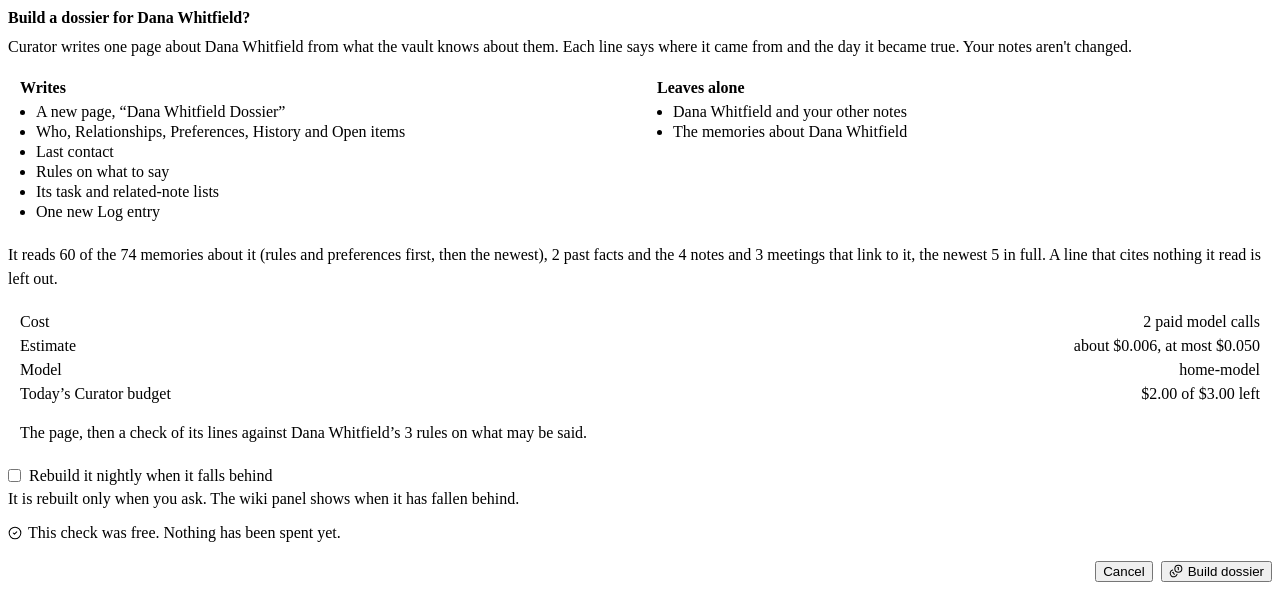
it: builds on confirm, follows it by the page's status, and offers the page once written
This screenshot has width=1280, height=599.
Later steps or results of the test are not shown.
Click the button "Build dossier". click: click(1216, 571)
box: [1161,561,1272,582]
Wait 6000 ms
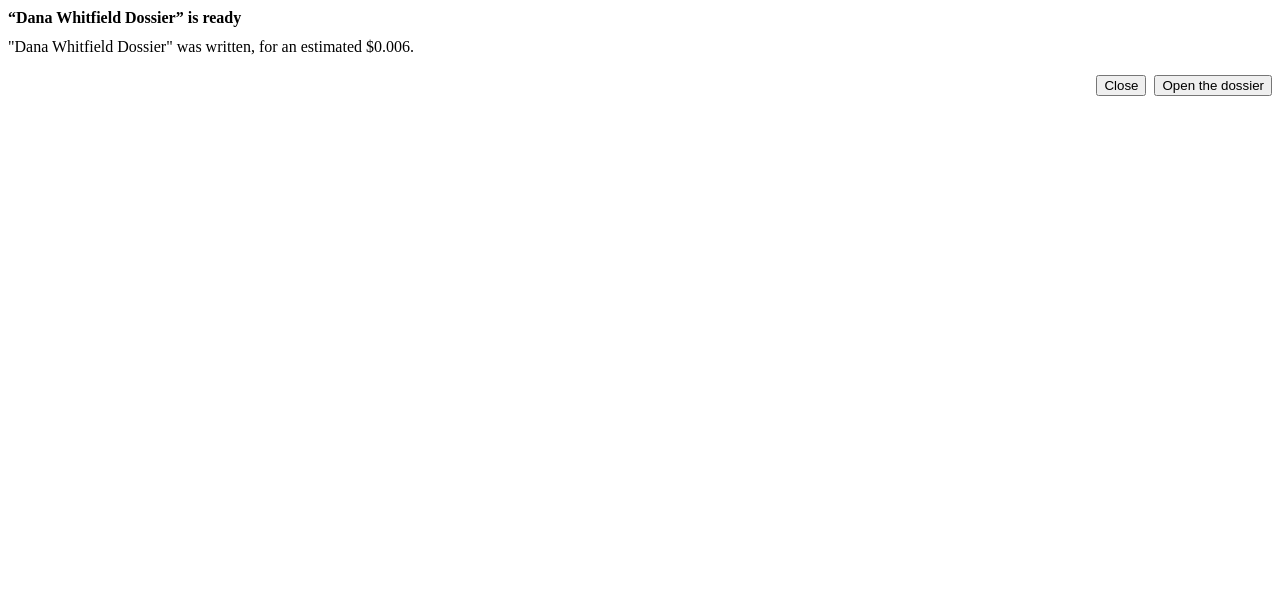
Now the button "Build dossier" is gone
Now the heading "Build a dossier for Dana Whitfield?" is gone
Now the text "\"Dana Whitfield Dossier\" was written, for an estimated $0.006." is shown, box [8,38,414,55]
